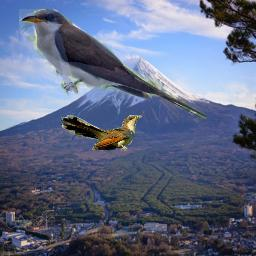Cuckoo: (19, 9, 206, 122), (61, 115, 142, 151)
